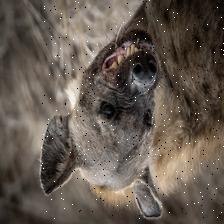hyena: (41, 0, 224, 219)
